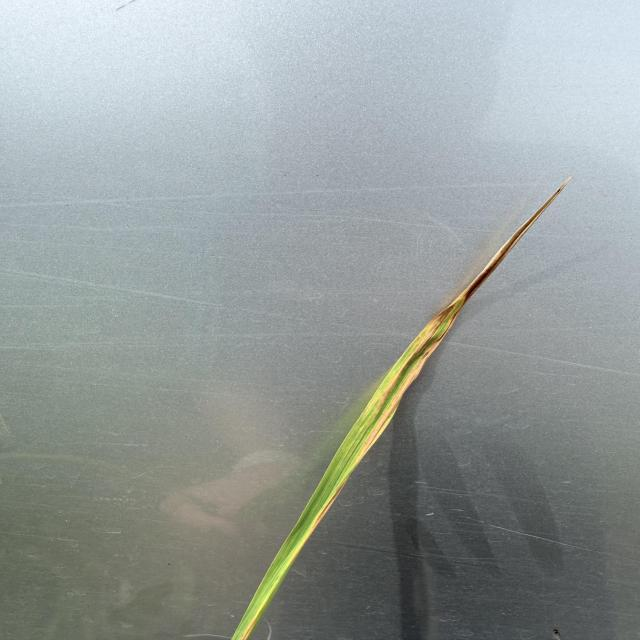Chay bia la: (311, 175, 574, 529)
